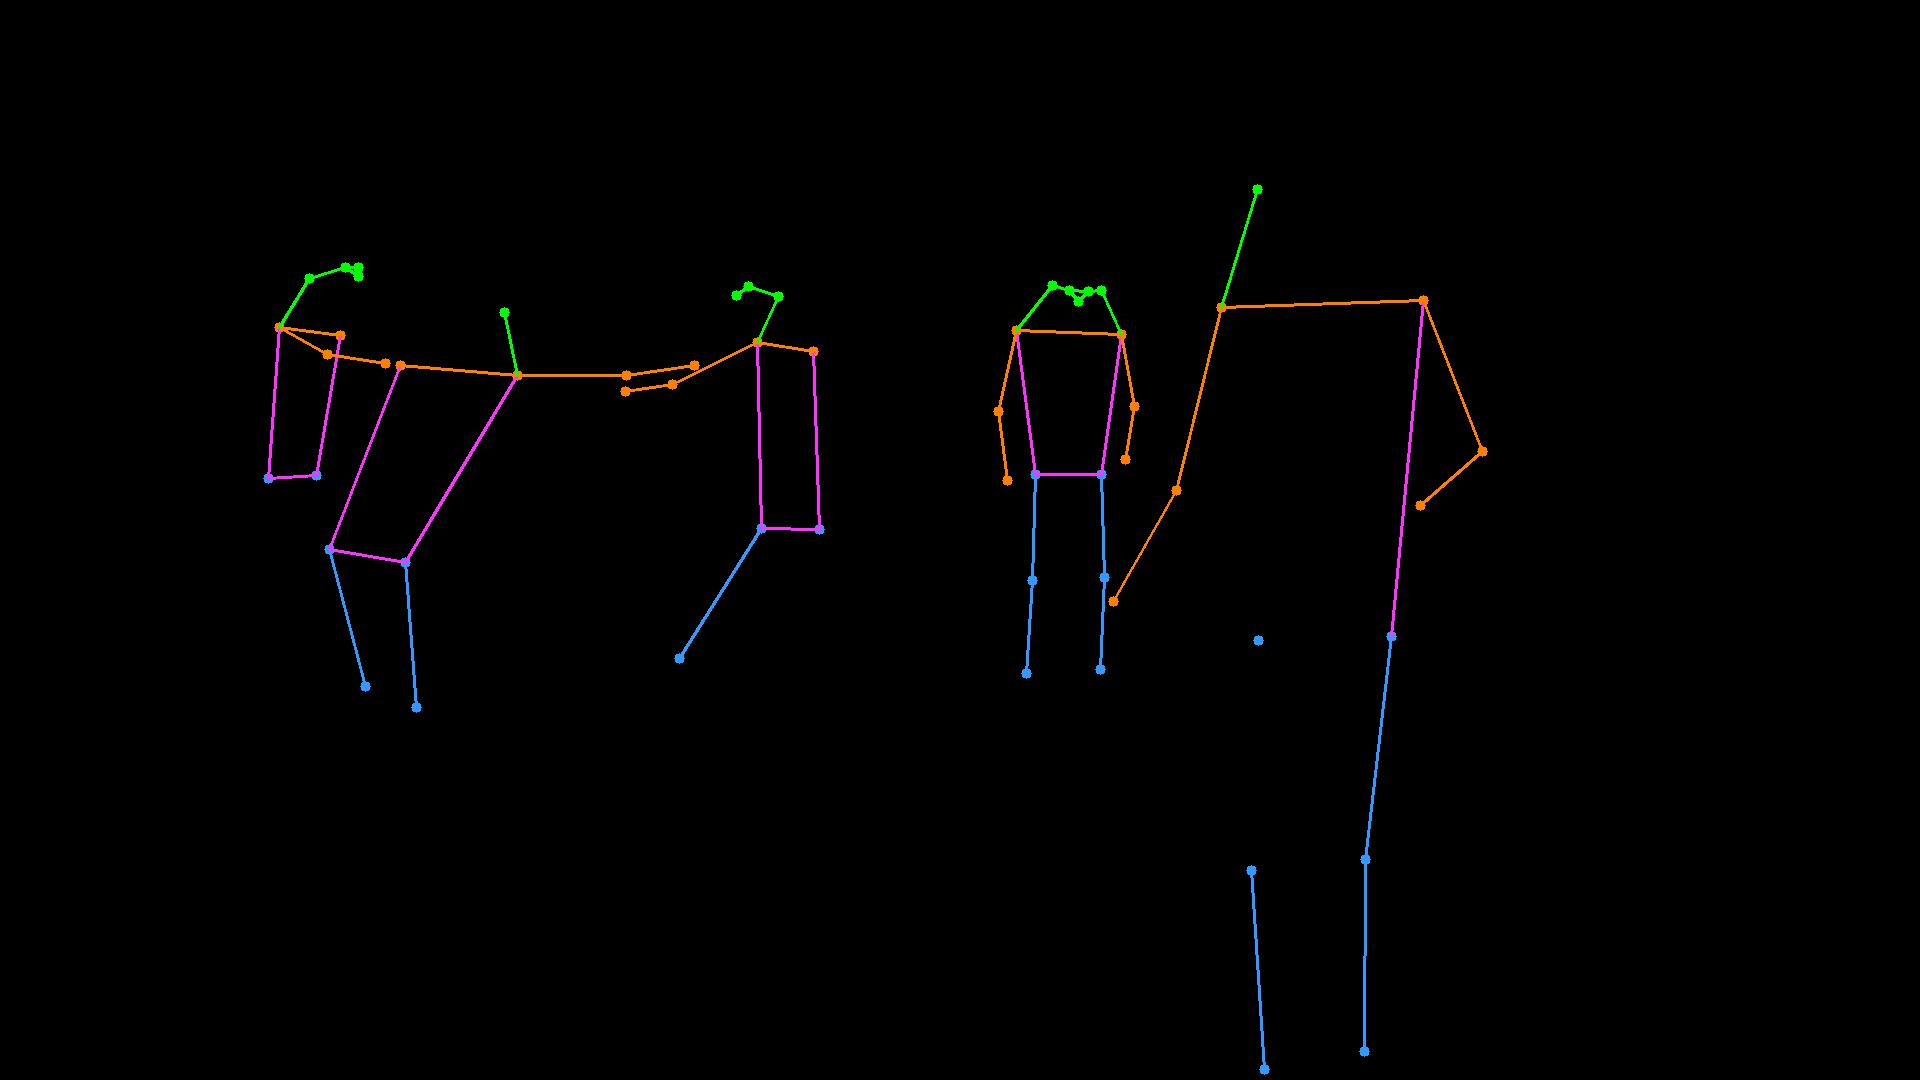normal: (975, 244, 1147, 719)
